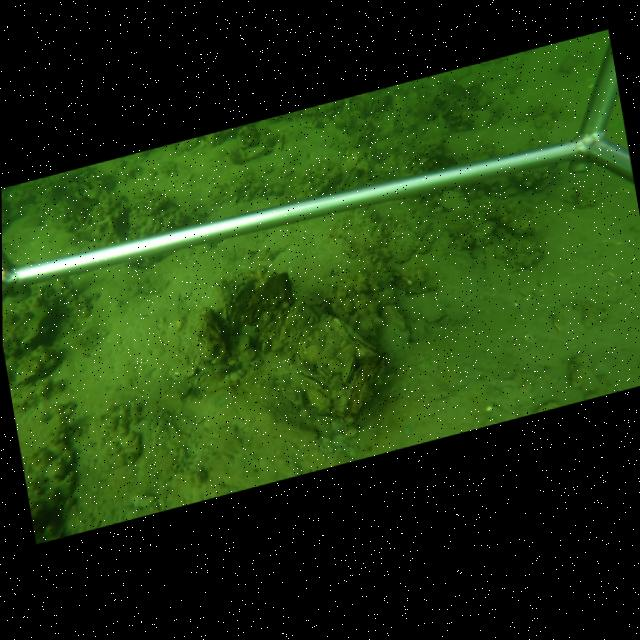Oyster-Closed: (331, 317, 378, 354), (15, 358, 59, 389), (382, 303, 413, 342), (340, 164, 366, 188), (341, 356, 357, 387), (244, 145, 270, 159), (260, 339, 272, 354)
Oyster-Indeterminate: (276, 299, 311, 352), (438, 189, 473, 214)
Oyster-Open: (288, 368, 328, 390), (316, 296, 335, 309)
